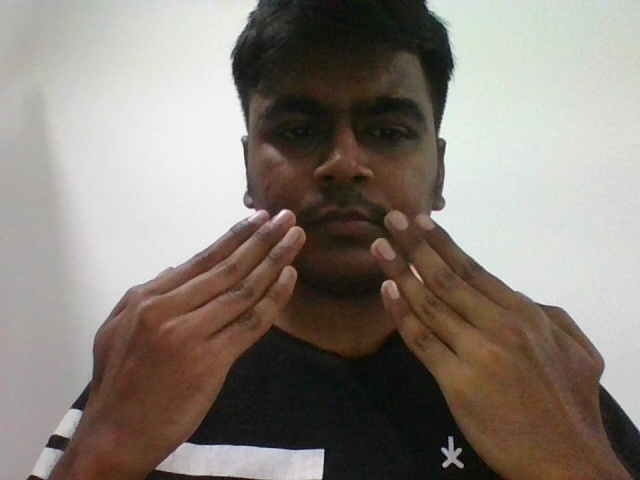thankyou: (82, 209, 588, 432)
